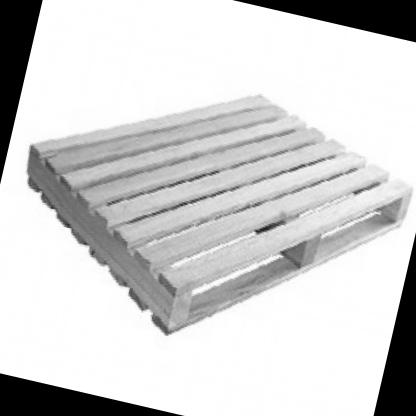BoxFace: (29, 89, 416, 337)
